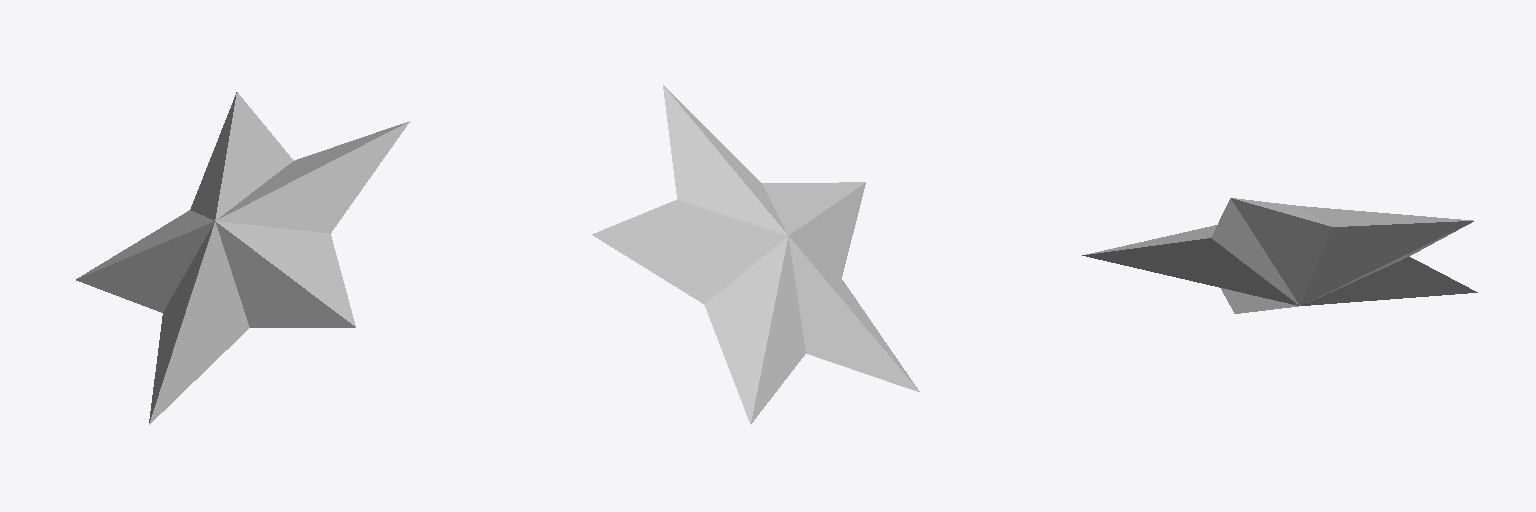
Rendered from Star.obj.
3 renders of one model, left to right at view 1: azimuth 30°, elevation 25°; view 2: azimuth 150°, elevation 25°; view 3: azimuth 270°, elevation 25°, orthographic.
Visible parts, largest first — view 1: Star; view 2: Star; view 3: Star.
Boxes of the visible parts, x1=… form: Star: x1=76, y1=92, x2=409, y2=424; Star: x1=592, y1=85, x2=919, y2=424; Star: x1=1082, y1=198, x2=1477, y2=313.
Bounding box in the file's own units: 0.4991 × 0.4464 × 0.6601.